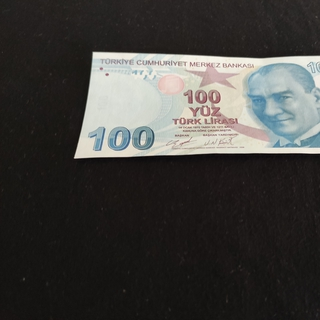100TLFront: (73, 51, 320, 159)
